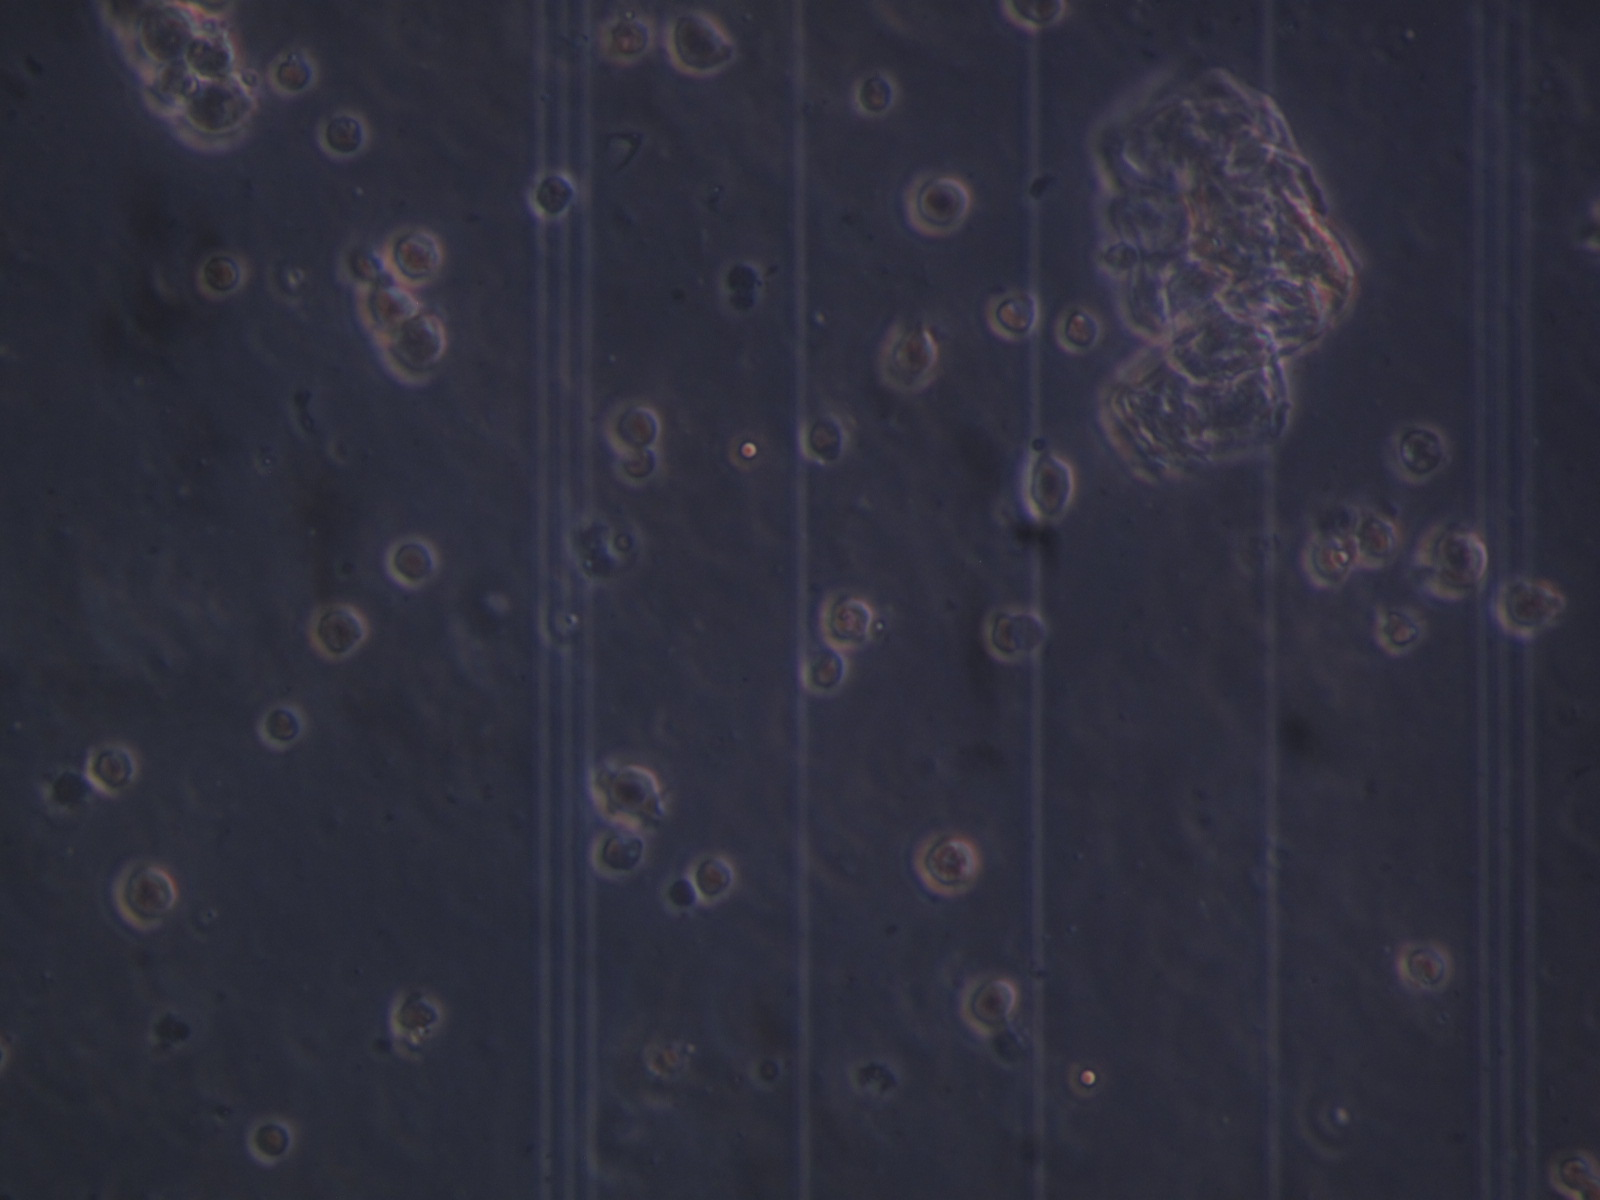hemo: (1414, 521, 1489, 604), (170, 76, 254, 150), (380, 311, 449, 387), (111, 858, 176, 933), (1495, 574, 1565, 642), (665, 8, 734, 76), (912, 827, 979, 895), (905, 170, 969, 239), (1385, 418, 1448, 485), (122, 5, 195, 62), (383, 221, 445, 287), (816, 586, 876, 655), (981, 603, 1048, 663), (307, 599, 370, 661), (1022, 453, 1077, 522), (135, 59, 198, 118), (883, 321, 941, 386), (959, 971, 1018, 1031), (607, 761, 659, 829), (353, 282, 418, 335), (597, 8, 656, 66), (603, 396, 664, 453), (1298, 529, 1356, 587), (1395, 937, 1454, 993), (83, 739, 139, 798), (386, 534, 442, 591), (984, 287, 1041, 342), (588, 829, 648, 880), (389, 984, 443, 1039), (315, 107, 370, 160), (1353, 511, 1402, 568), (1374, 603, 1427, 655), (527, 165, 578, 219), (183, 26, 237, 78), (253, 700, 307, 750), (687, 850, 734, 904), (197, 250, 248, 297), (1054, 303, 1101, 355), (267, 49, 317, 96), (247, 1116, 295, 1163), (803, 649, 852, 696), (852, 69, 897, 118), (799, 416, 848, 461), (611, 445, 661, 488), (1000, 1, 1067, 32), (661, 871, 700, 916)
